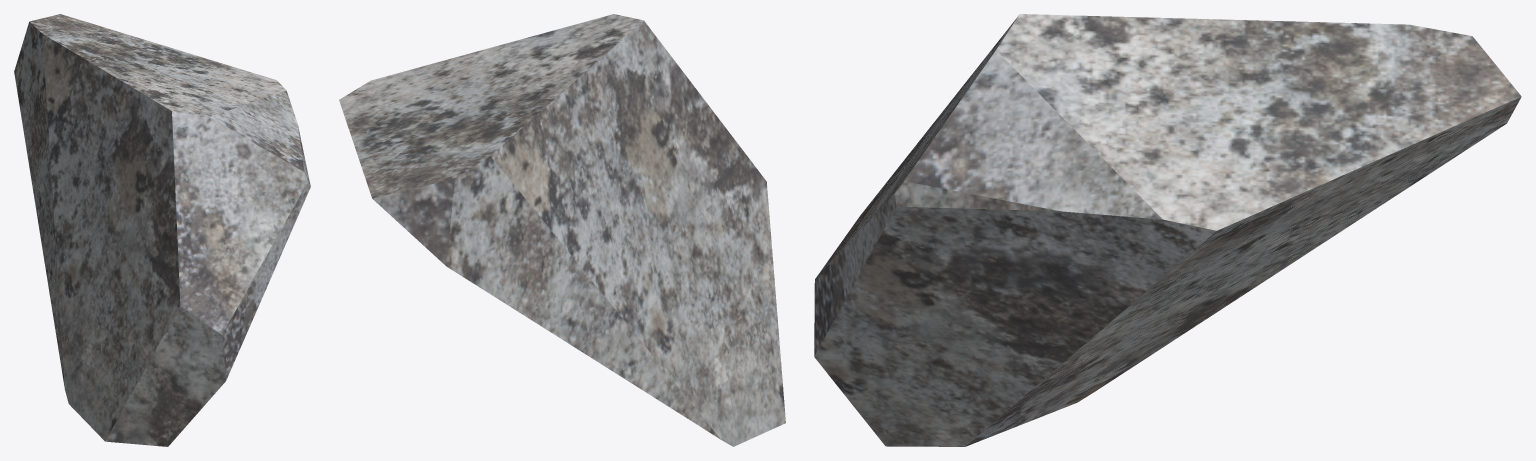
File: Asteroid_Large_001_02_002_03_006.fbx
The picture shows the model from 3 angles, left to right: view 1: azimuth 30°, elevation 25°; view 2: azimuth 150°, elevation 25°; view 3: azimuth 270°, elevation 25°; orthographic projection. The views are drawn at different scales.
Parts seen in each view (by area): view 1: Asteroid_Large_001_02_002_03_006; view 2: Asteroid_Large_001_02_002_03_006; view 3: Asteroid_Large_001_02_002_03_006.
Part boxes in pixels (box(x1,y1,x2,y2)): Asteroid_Large_001_02_002_03_006: box(14, 14, 310, 446); Asteroid_Large_001_02_002_03_006: box(339, 14, 785, 446); Asteroid_Large_001_02_002_03_006: box(814, 14, 1521, 446).
Bounding box in the file's own units: 8.35 × 9.3 × 12.68.
